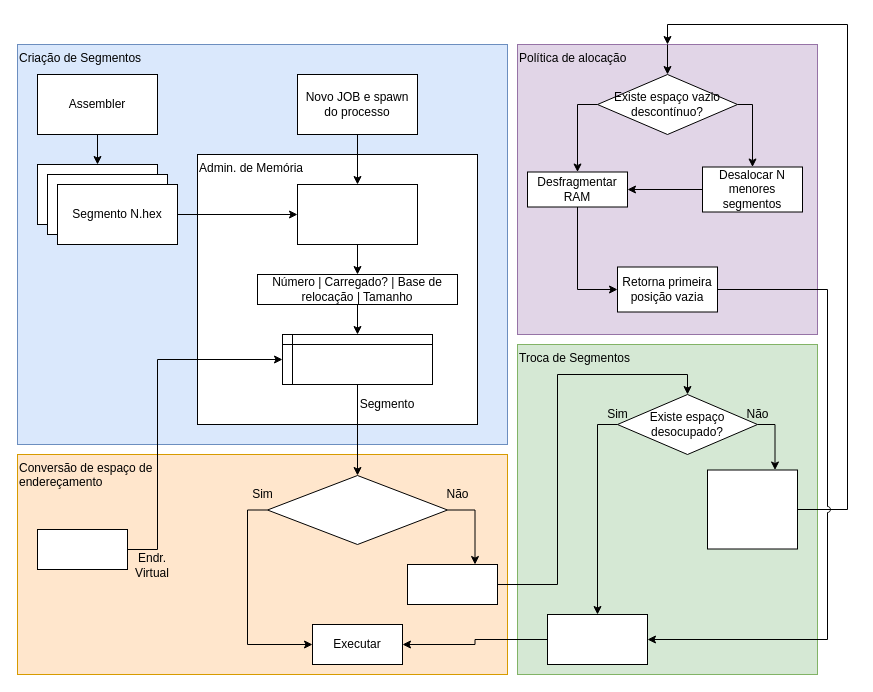
This 873x692 diagram has some shape labels left out. The shapes that lost their labels are listed below. From the top down, each one's centre as x and y in pixels, then its label:
(x=357, y=214): Fetch do código .hex de cada segmento
(x=357, y=359): Tabela de Segmentos
(x=357, y=509): Segmento carregado na memória?
(x=752, y=509): Escolher melhor posição para inserir
(x=82, y=549): CPU
(x=452, y=584): Pedir alocação do segmento
(x=597, y=639): Inserir Segmento na posição vazia
